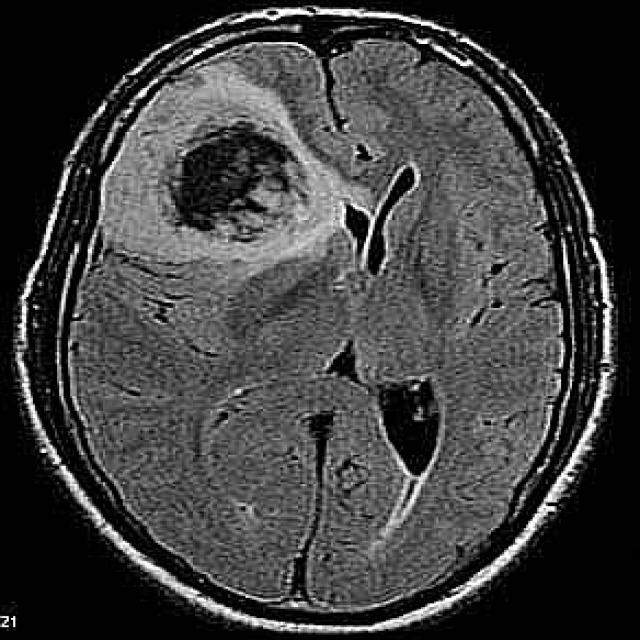Tumor-Cell: (127, 84, 340, 245)
